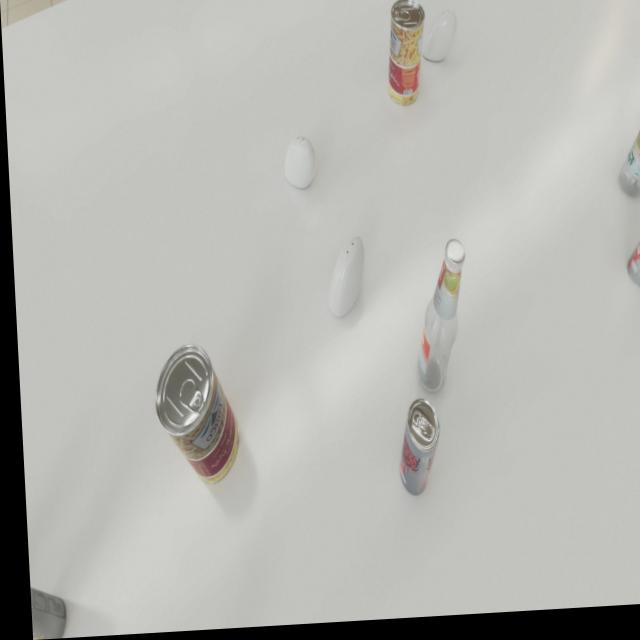Bottle: (407, 244, 468, 401)
Potato_sticks: (148, 344, 236, 489), (383, 3, 428, 112)
Rita_zero_sugar: (392, 402, 438, 501)
Salt: (323, 240, 364, 321), (419, 16, 458, 68), (281, 139, 315, 193)
